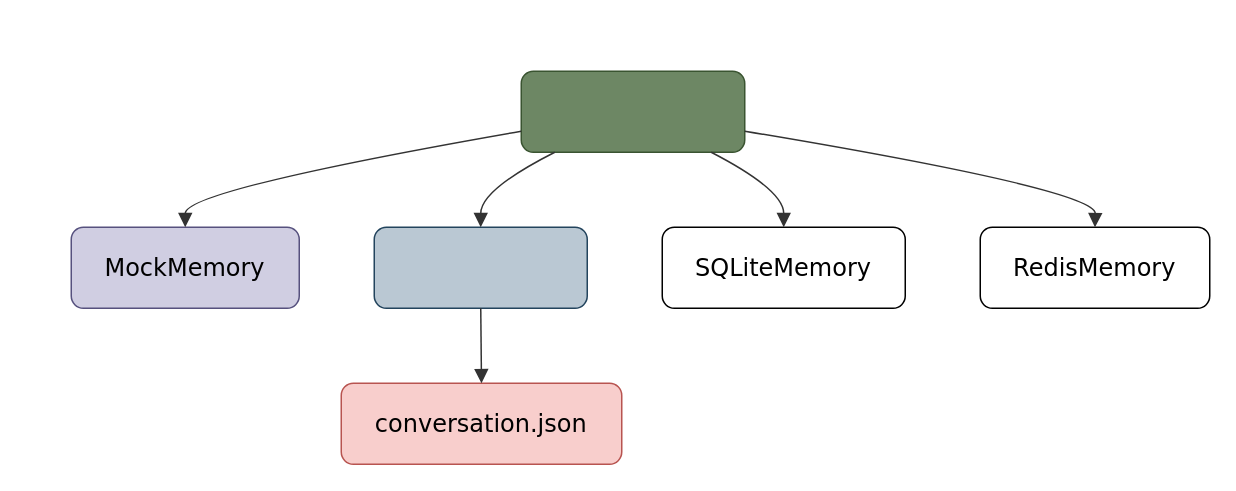
Some shapes in this 1236 by 491 pixel diagram are drawn without their labels. The centre of each missing label's shape, as x and y in pixels:
"BaseMemory" belongs at (632,111).
"FileMemory" belongs at (480,267).
